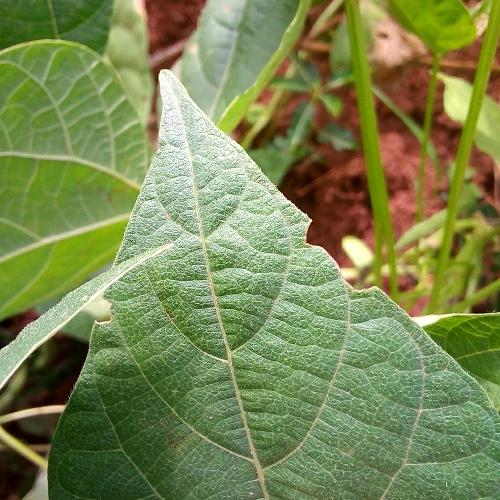embun tepung: (98, 364, 426, 488)
